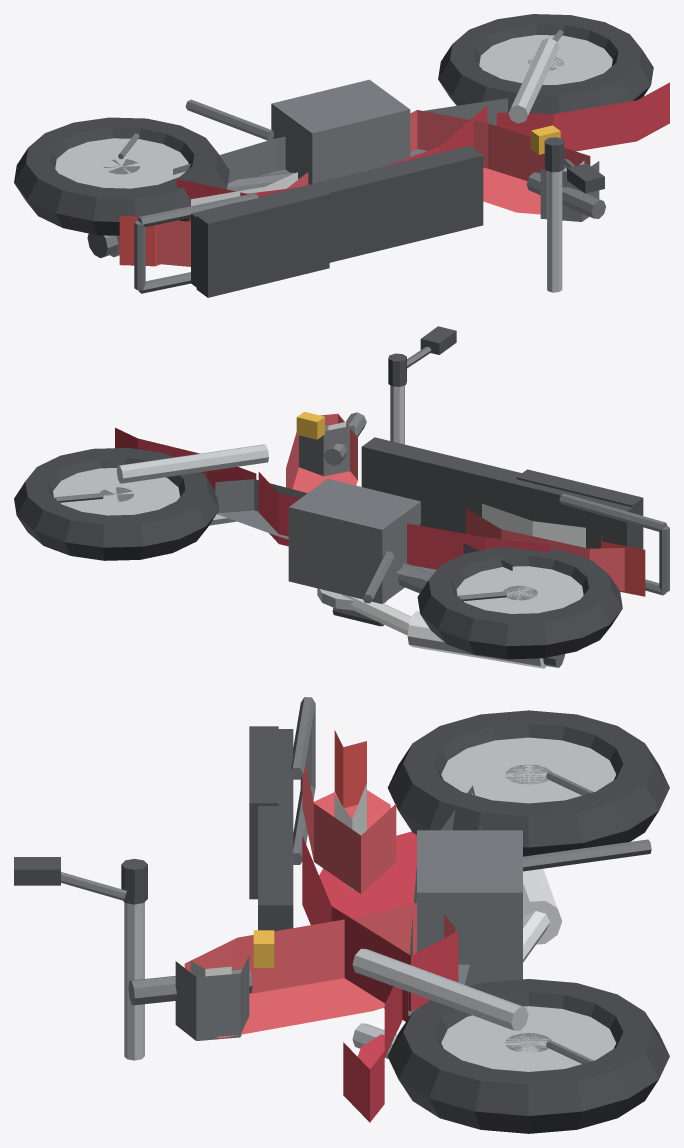
The model's file is motolowpoly.glb.
3 renders of one model, top to bottom at view 1: azimuth 30°, elevation 25°; view 2: azimuth 150°, elevation 25°; view 3: azimuth 270°, elevation 25°, orthographic. The views are drawn at different scales.
Visible parts, largest first — view 1: seat_base, rear_wheel_tire, front_wheel_tire, seat_rear_cushion, engine_block, front_leg_shield, front_fender, rear_wheel_rim, front_wheel_rim, lower_frame, handlebar, red_main_fairing (+15 smaller); view 2: rear_wheel_tire, front_wheel_tire, seat_base, engine_block, rear_wheel_rim, red_main_fairing, front_wheel_rim, front_fork_right, lower_frame, rear_side_panel, seat_rear_cushion, side_decal (+15 smaller); view 3: front_wheel_tire, rear_wheel_tire, engine_block, front_leg_shield, red_main_fairing, rear_wheel_rim, front_wheel_rim, rear_side_panel, seat_base, headlight_housing, front_fork_right, front_fender (+14 smaller).
Part boxes in pixels (bbox=[...]): seat_base: bbox=[191, 145, 483, 292]; rear_wheel_tire: bbox=[14, 117, 229, 235]; front_wheel_tire: bbox=[438, 14, 653, 113]; seat_rear_cushion: bbox=[196, 186, 329, 297]; engine_block: bbox=[271, 79, 410, 184]; front_leg_shield: bbox=[410, 110, 590, 214]; front_fender: bbox=[496, 82, 669, 151]; rear_wheel_rim: bbox=[55, 138, 188, 188]; front_wheel_rim: bbox=[479, 35, 612, 84]; lower_frame: bbox=[173, 98, 507, 191]; handlebar: bbox=[547, 171, 562, 292]; red_main_fairing: bbox=[176, 105, 487, 221]; rear_wheel_tire: bbox=[417, 547, 622, 659]; front_wheel_tire: bbox=[14, 448, 219, 560]; seat_base: bbox=[361, 437, 632, 548]; engine_block: bbox=[288, 478, 420, 603]; rear_wheel_rim: bbox=[456, 566, 583, 613]; red_main_fairing: bbox=[258, 472, 549, 569]; front_wheel_rim: bbox=[53, 468, 179, 515]; front_fork_right: bbox=[116, 444, 268, 483]; lower_frame: bbox=[215, 479, 512, 578]; rear_side_panel: bbox=[466, 508, 635, 590]; seat_rear_cushion: bbox=[516, 469, 643, 549]; side_decal: bbox=[482, 503, 585, 547]; front_wheel_tire: bbox=[387, 979, 669, 1133]; rear_wheel_tire: bbox=[387, 710, 669, 856]; engine_block: bbox=[417, 830, 522, 986]; front_leg_shield: bbox=[184, 902, 455, 1038]; red_main_fairing: bbox=[302, 831, 458, 1021]; rear_wheel_rim: bbox=[441, 737, 616, 803]; front_wheel_rim: bbox=[441, 1006, 616, 1071]; rear_side_panel: bbox=[302, 764, 396, 893]; seat_base: bbox=[258, 729, 293, 931]; headlight_housing: bbox=[175, 955, 249, 1040]; front_fork_right: bbox=[352, 948, 528, 1030]; front_fender: bbox=[343, 986, 402, 1122].
Bounding box in the file's own units: 3.12 × 0.72 × 2.23.
